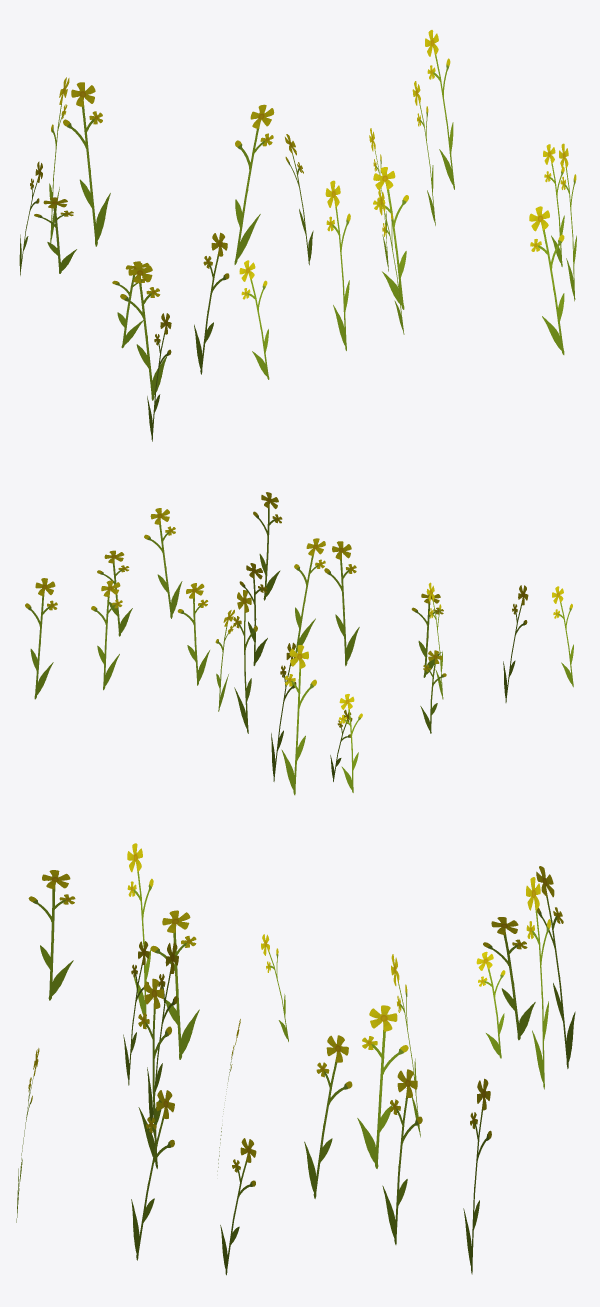
File: FSS_Flower_001.FBX
3 renders of one model, top to bottom at view 1: azimuth 30°, elevation 25°; view 2: azimuth 150°, elevation 25°; view 3: azimuth 270°, elevation 25°, orthographic. The views are drawn at different scales.
Parts seen in each view (by area): view 1: FSS_Flower_001; view 2: FSS_Flower_001; view 3: FSS_Flower_001.
Boxes of the visible parts, x1=… form: FSS_Flower_001: x1=19, y1=30, x2=576, y2=441; FSS_Flower_001: x1=25, y1=492, x2=573, y2=795; FSS_Flower_001: x1=16, y1=843, x2=575, y2=1275.
Bounding box in the file's own units: 107 × 38.59 × 90.01.
